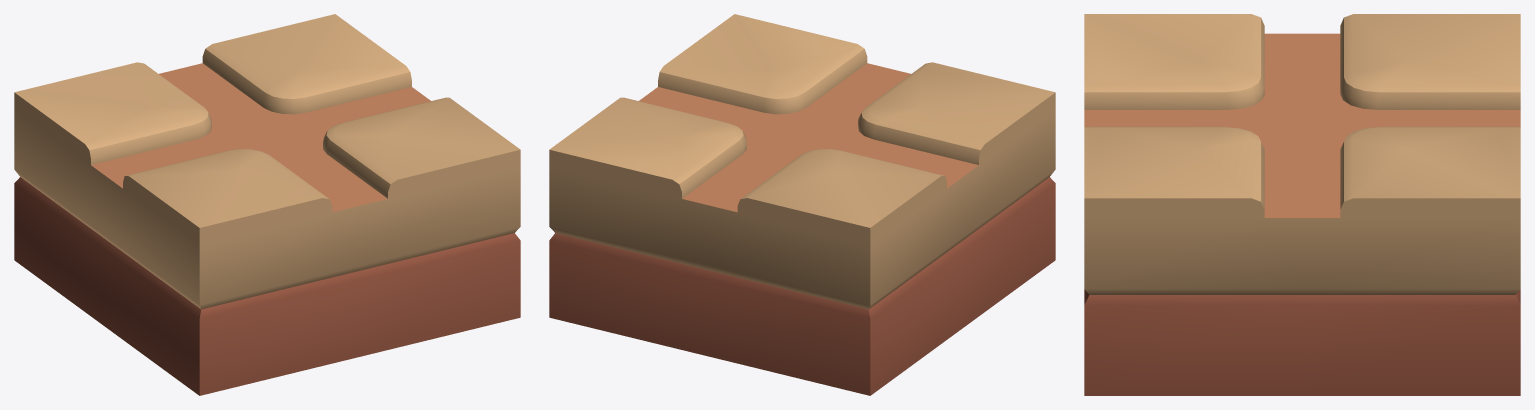
File: square_sand_roadE_detail.glb
3 renders of one model, left to right at view 1: azimuth 30°, elevation 25°; view 2: azimuth 150°, elevation 25°; view 3: azimuth 270°, elevation 25°, orthographic. The views are drawn at different scales.
Visible parts, largest first — view 1: square_sand_roadE_detail; view 2: square_sand_roadE_detail; view 3: square_sand_roadE_detail.
Boxes of the visible parts, bbox=[...] form: square_sand_roadE_detail: bbox=[14, 14, 520, 395]; square_sand_roadE_detail: bbox=[549, 14, 1055, 395]; square_sand_roadE_detail: bbox=[1084, 14, 1520, 395].
Bounding box in the file's own units: 3.82 × 1.91 × 3.82.
